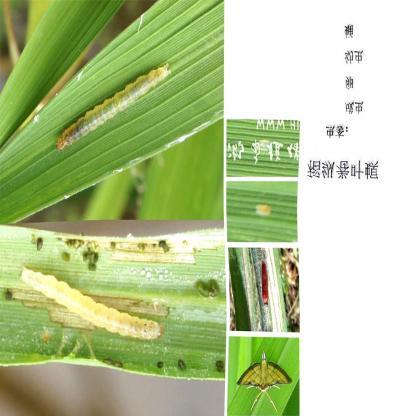leaf-folder: (12, 248, 174, 348), (47, 58, 166, 148), (249, 252, 280, 306), (245, 195, 283, 229)
